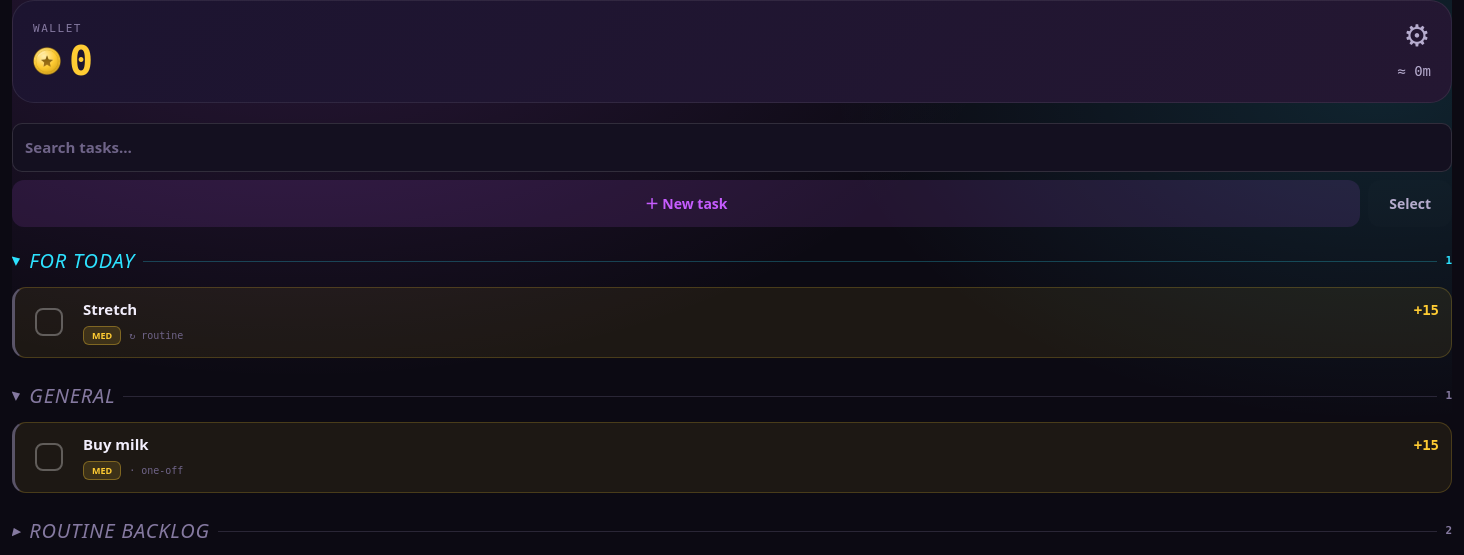
Test case: searching the list › says so when nothing matches, and offers the way back
Expected: the button "Buy milk" is shown, [83, 435, 1402, 453]
Type "xylophone" into the search field labelled "Search tasks…" at (732, 148), box [12, 123, 1452, 172]
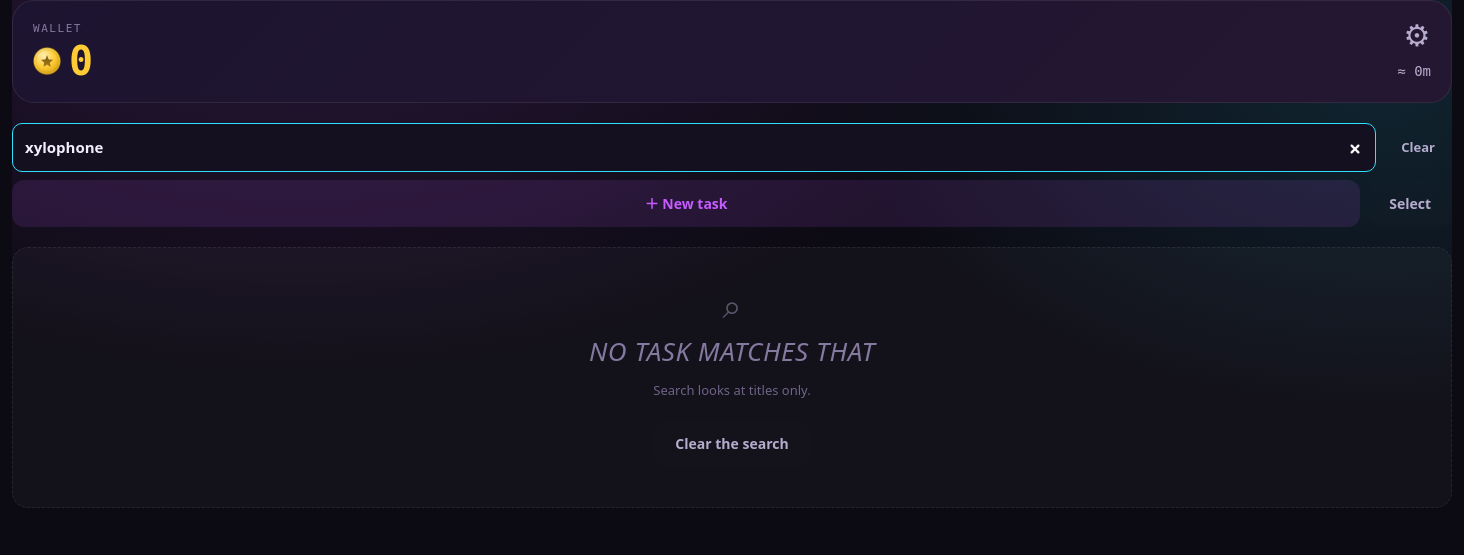
Expected: the heading "No task matches that" is shown, [589, 334, 875, 369]
Click the button "Clear the search" at (732, 444), box [654, 420, 810, 468]
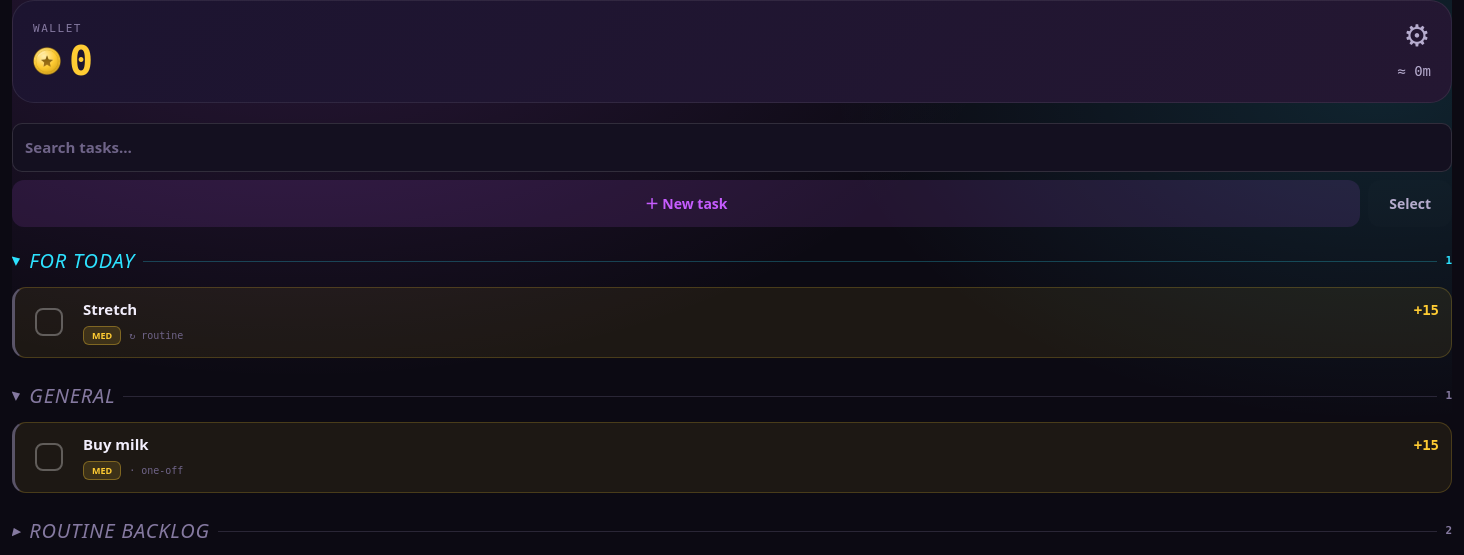
Expected: the button "Buy milk" is shown, [83, 435, 1402, 453]
